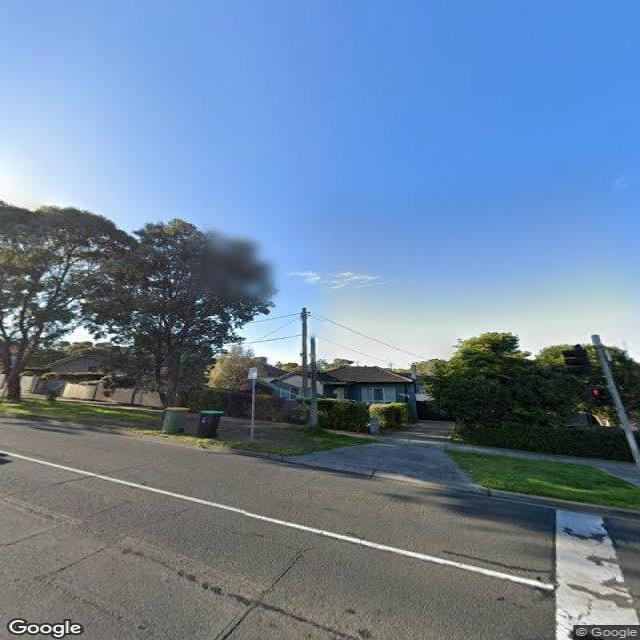steel-pole: (591, 334, 640, 470)
timber-pole: (296, 302, 314, 429)
traffic-light: (562, 344, 593, 377)
